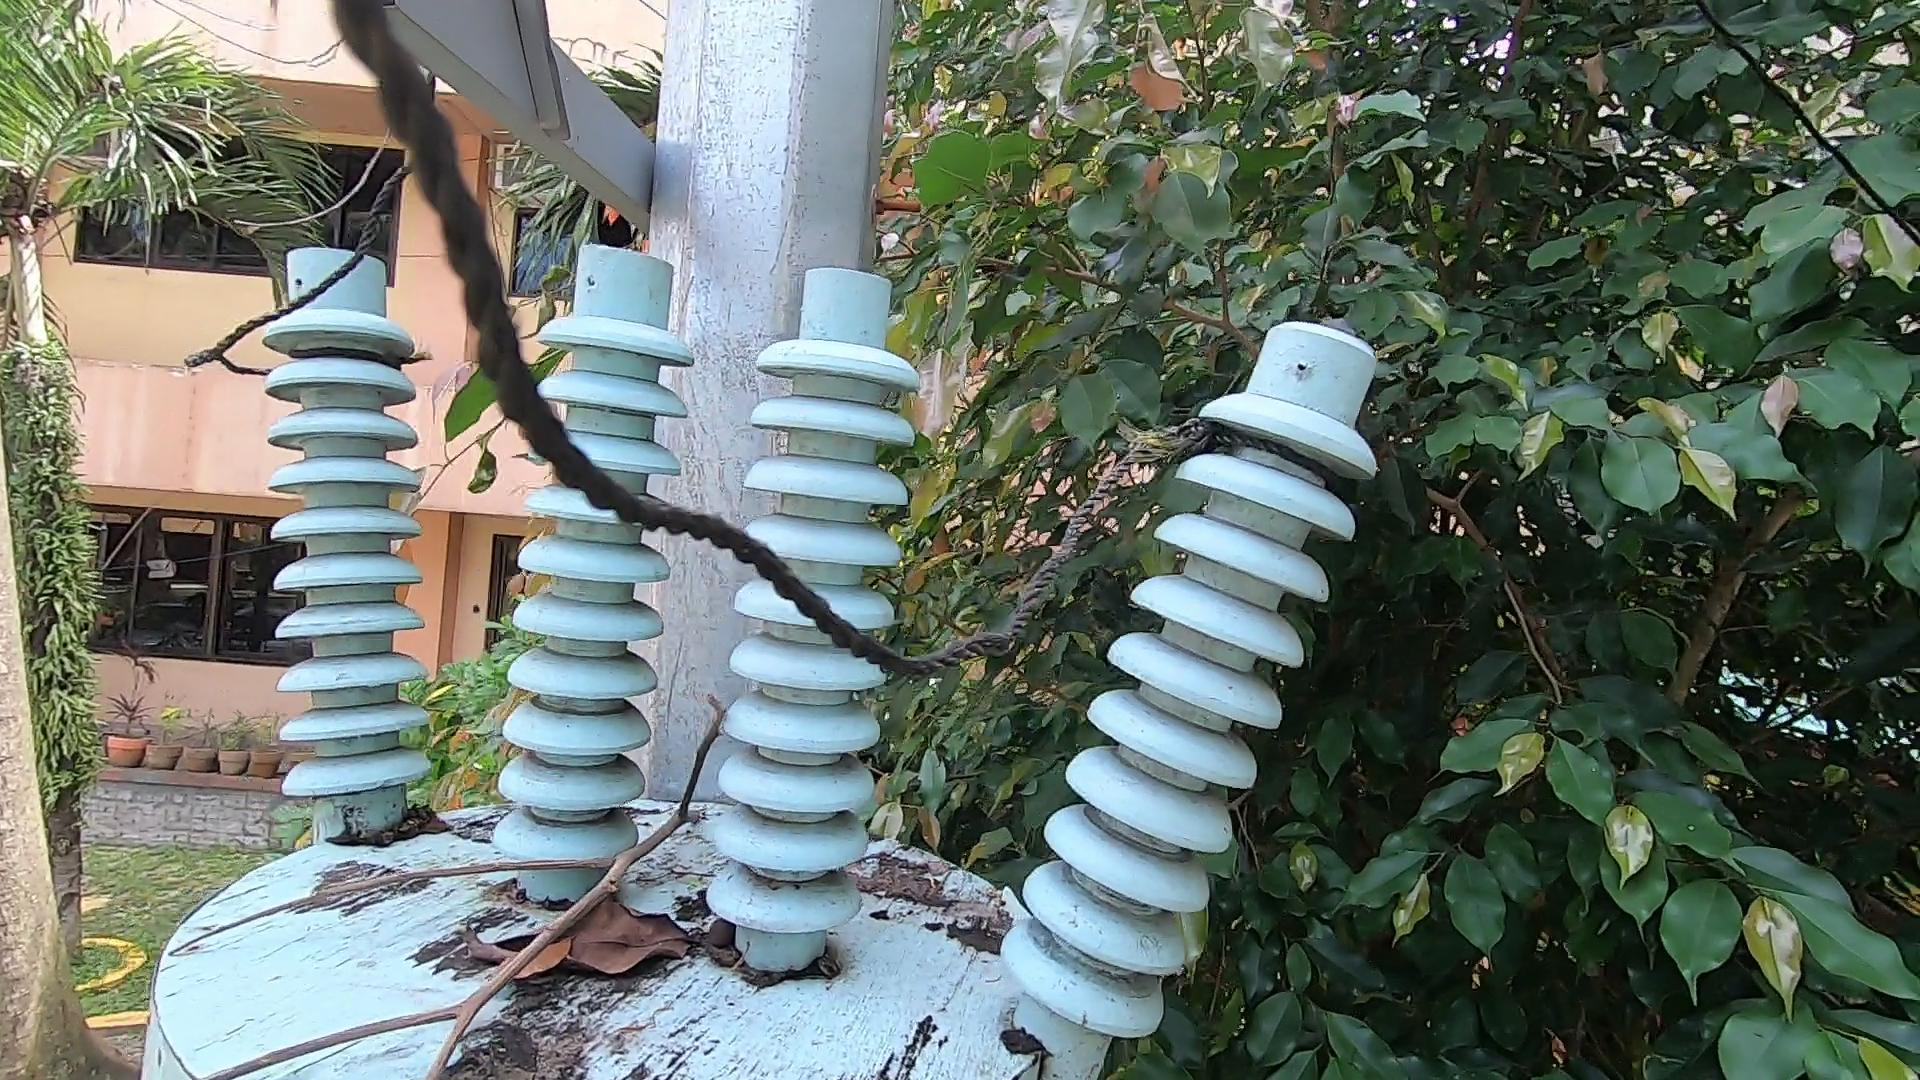leaf: (447, 880, 735, 977), (852, 828, 1013, 948), (320, 800, 460, 851)
tree branch: (131, 723, 727, 1080)
